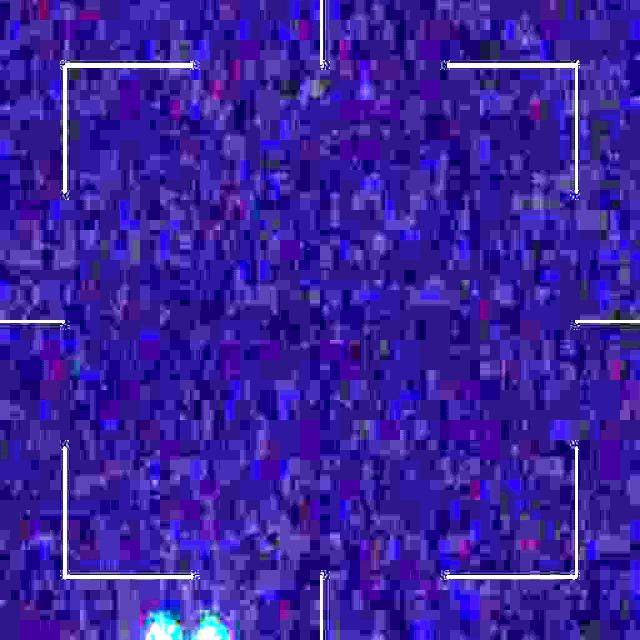bird: (149, 625, 226, 640)
